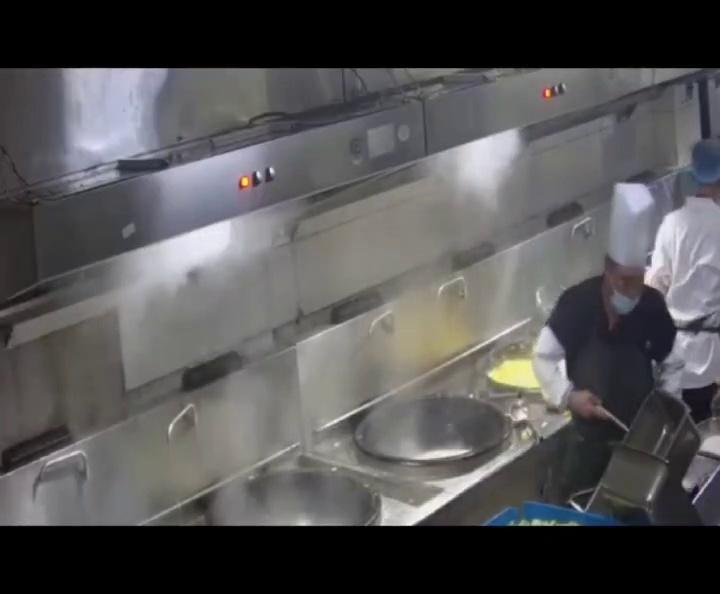mask: (610, 275, 646, 317)
